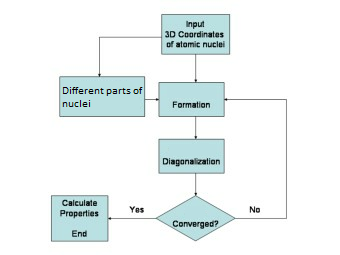arrow: (222, 96, 289, 221), (97, 35, 164, 78), (106, 215, 157, 221), (192, 53, 199, 84), (193, 115, 198, 139), (194, 172, 198, 197), (143, 97, 159, 101)
decision: (155, 195, 238, 242)
process: (57, 75, 148, 118), (159, 12, 231, 56), (49, 193, 110, 243), (157, 80, 227, 119), (156, 137, 226, 175)
text: (61, 85, 144, 108), (164, 20, 227, 50), (58, 197, 100, 238), (161, 156, 222, 167), (171, 218, 219, 230), (171, 99, 211, 109), (128, 205, 146, 214), (248, 205, 261, 215)
